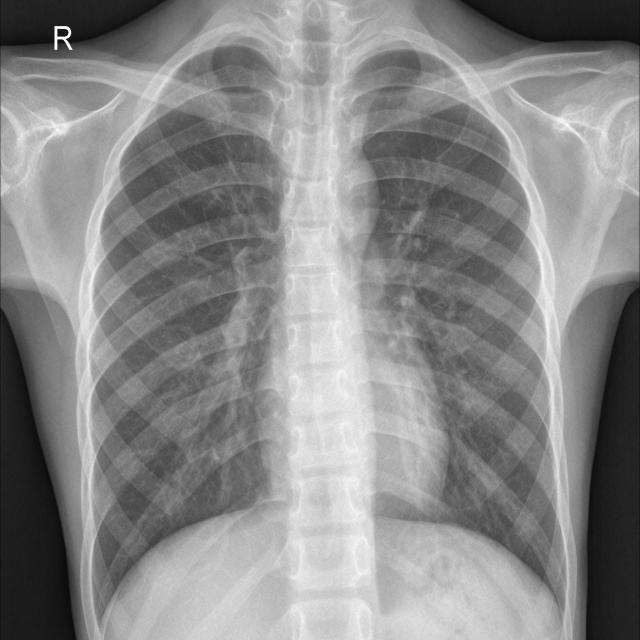no-pneumonia: (359, 56, 566, 600), (91, 48, 281, 615)
